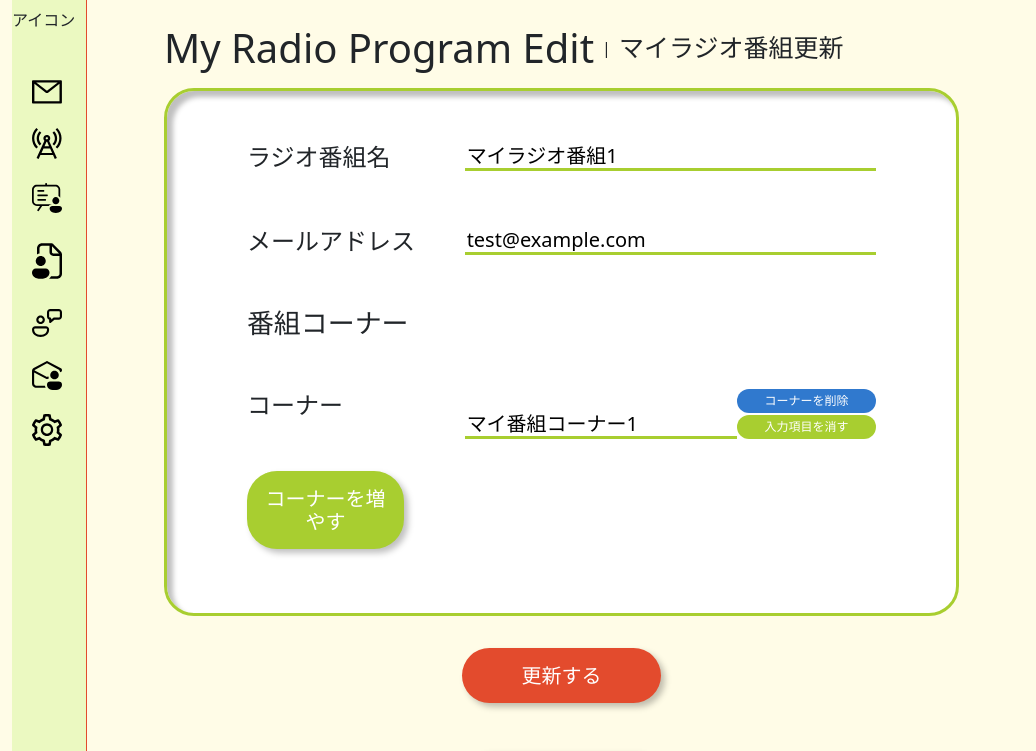
Test case: マイラジオ番組個別 › ラジオ番組名を入れないとバリデーションメッセージが表示される
Type "更新" into the field with test id "my-radio-program-input-name" at point(670, 157), box [465,143,876,171]
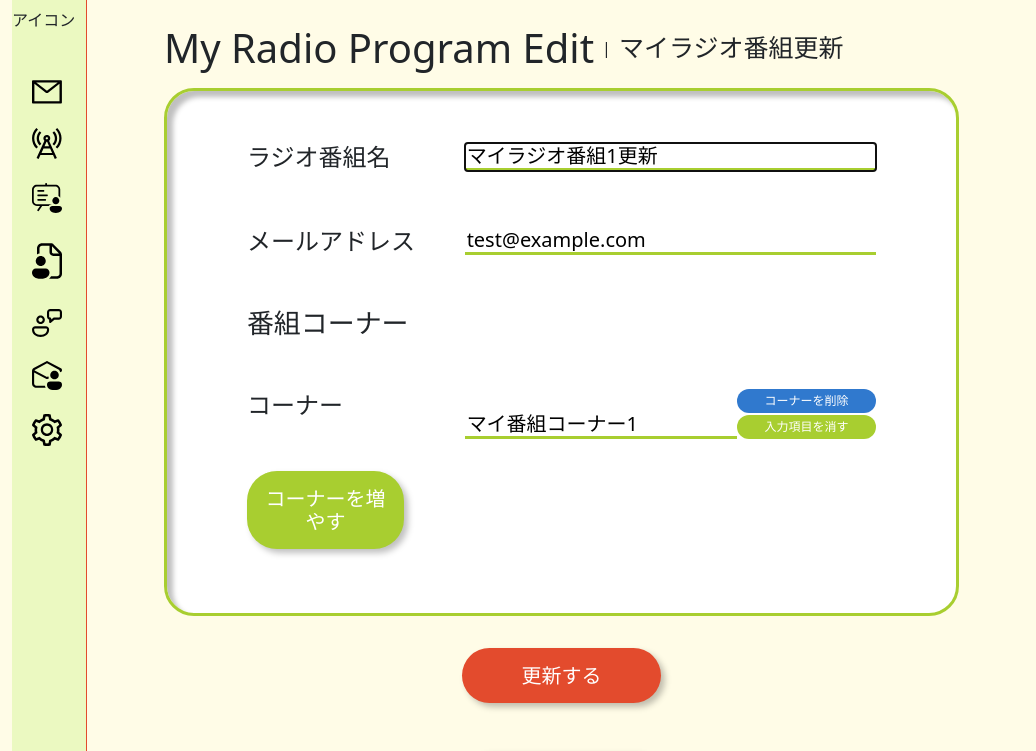
Clear the field with test id "my-radio-program-input-name" at point(670, 157), box [465,143,876,171]
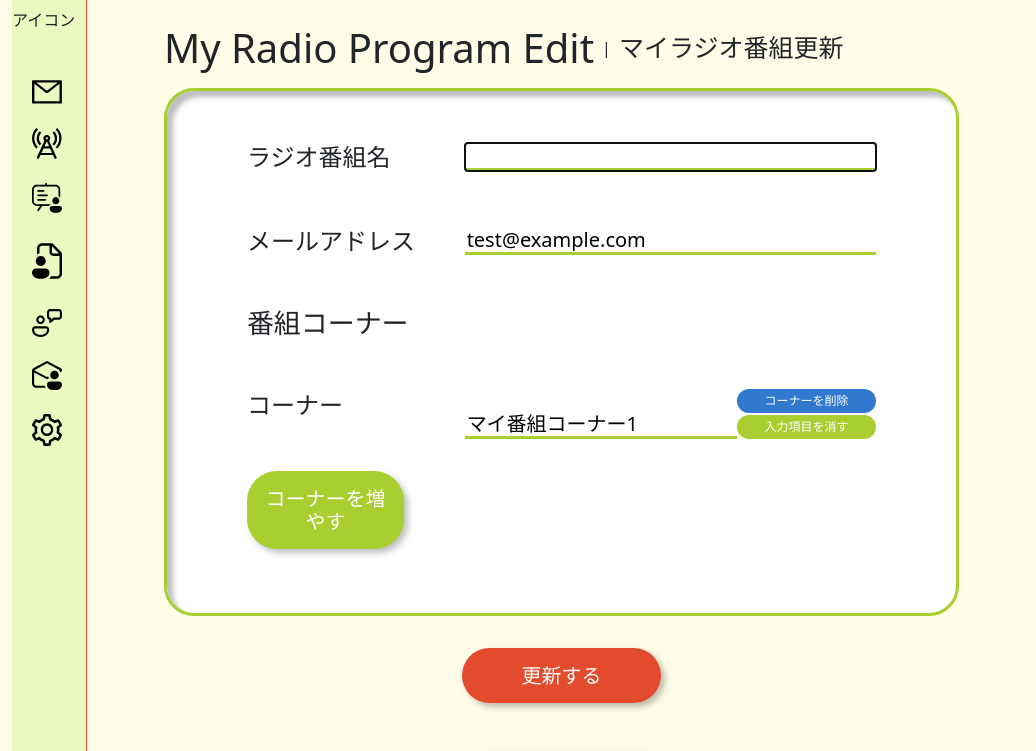
Click the button with test id "my-radio-program-button-edit" at point(562, 675), box [462,648,661,703]
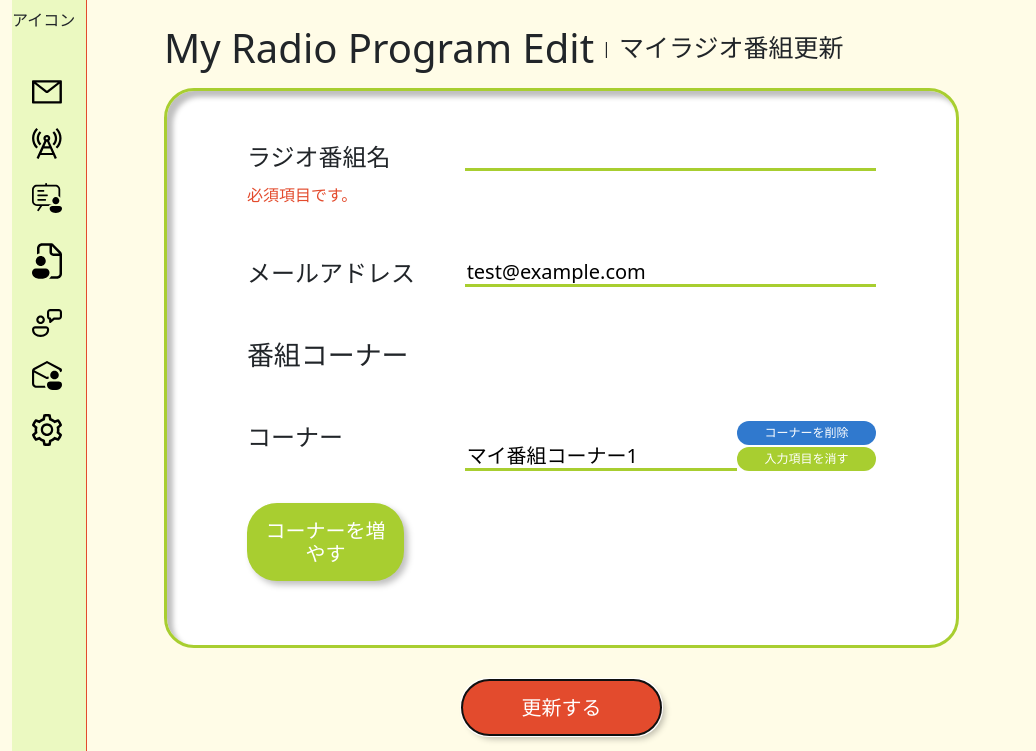
Now the text "必須項目です。" is shown, box [247,184,357,206]
